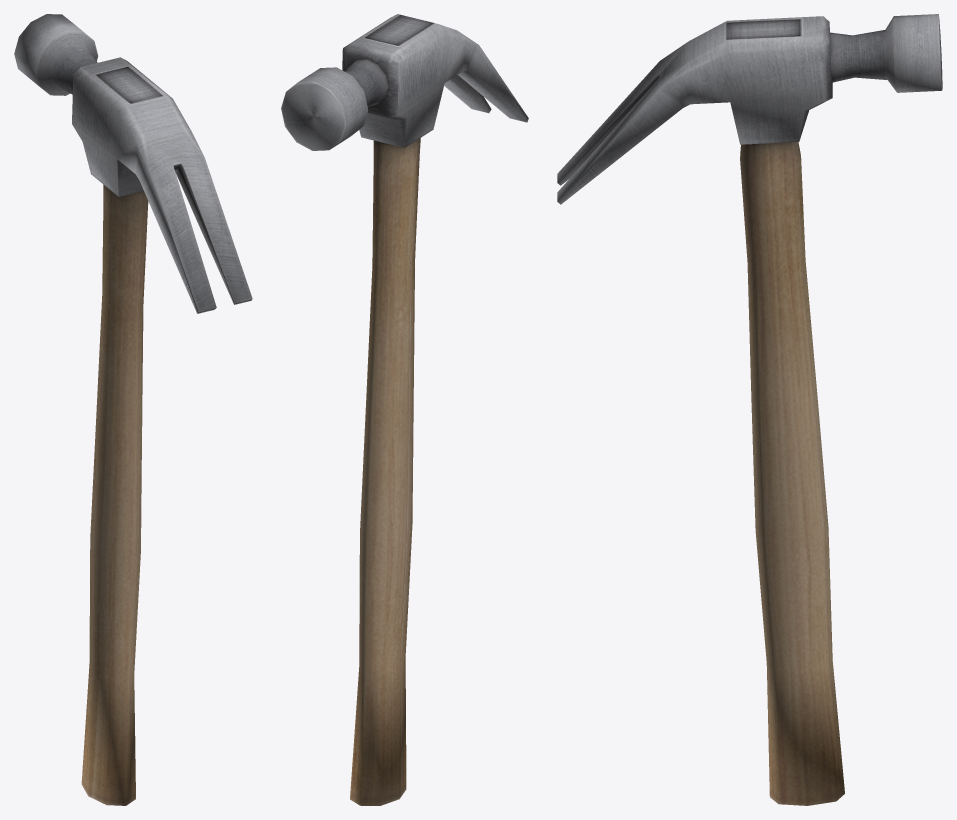
3 renders of one model, left to right at view 1: azimuth 30°, elevation 25°; view 2: azimuth 150°, elevation 25°; view 3: azimuth 270°, elevation 25°, orthographic. The views are drawn at different scales.
Visible parts, largest first — view 1: _DC_L1; view 2: _DC_L1; view 3: _DC_L1.
Boxes of the visible parts, <box> form: _DC_L1: <box>14,14,252,805</box>; _DC_L1: <box>281,14,528,805</box>; _DC_L1: <box>557,14,942,805</box>.
Bounding box in the file's own units: 3.4 × 37.89 × 16.97.
Materials: 1 (1 with a texture image).
